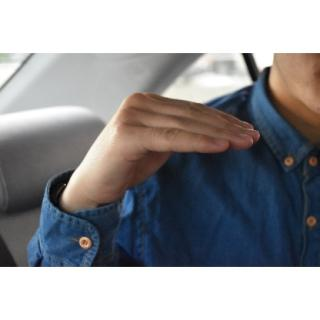HAA: (62, 87, 268, 213)
